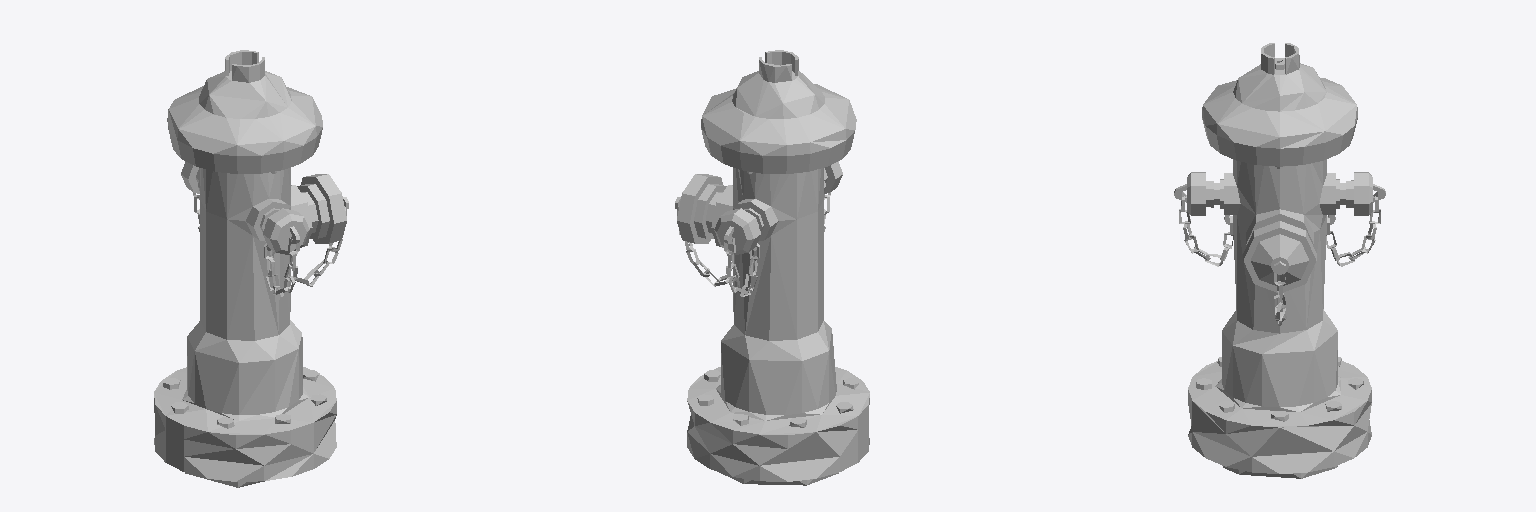
Rendered from FireHydrant_LOD2.obj.
3 views of the same model, side by side, from view 1: azimuth 30°, elevation 25°; view 2: azimuth 150°, elevation 25°; view 3: azimuth 270°, elevation 25° (orthographic).
Visible parts, largest first — view 1: FireHydrant_LOD2 FireHydrant; view 2: FireHydrant_LOD2 FireHydrant; view 3: FireHydrant_LOD2 FireHydrant.
Part boxes in pixels (bbox=[...]): FireHydrant_LOD2 FireHydrant: bbox=[154, 50, 348, 487]; FireHydrant_LOD2 FireHydrant: bbox=[675, 50, 869, 485]; FireHydrant_LOD2 FireHydrant: bbox=[1174, 43, 1385, 478].
Bounding box in the file's own units: 49.32 × 104 × 50.24.